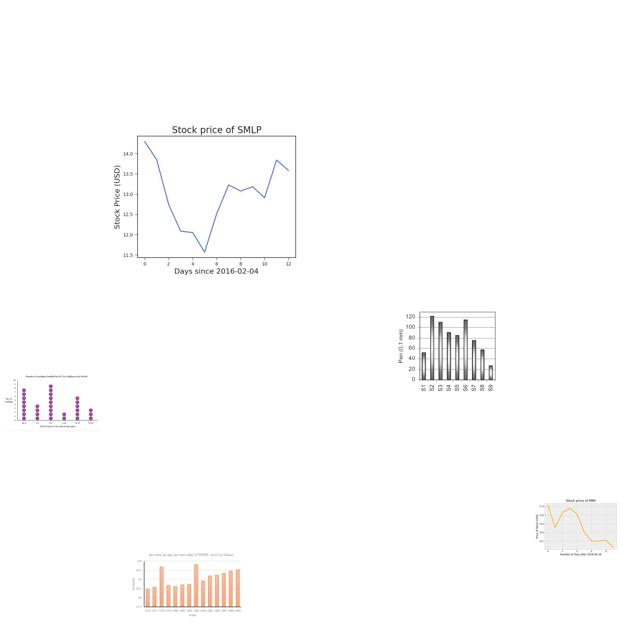Graph: (109, 117, 319, 275), (397, 307, 496, 393), (129, 552, 243, 618), (533, 491, 626, 561), (2, 373, 100, 431)
